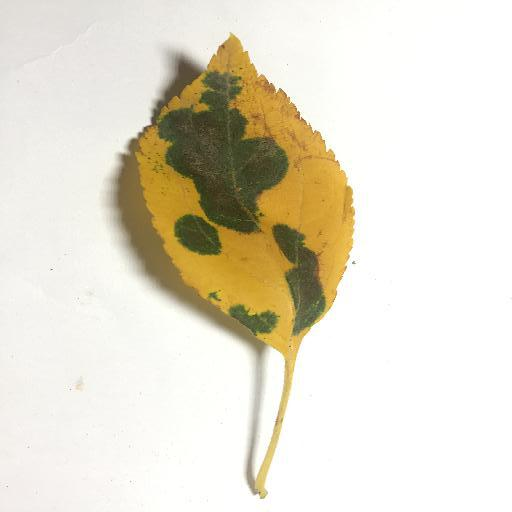Brown_Spot: (173, 118, 248, 216), (301, 262, 323, 315)
